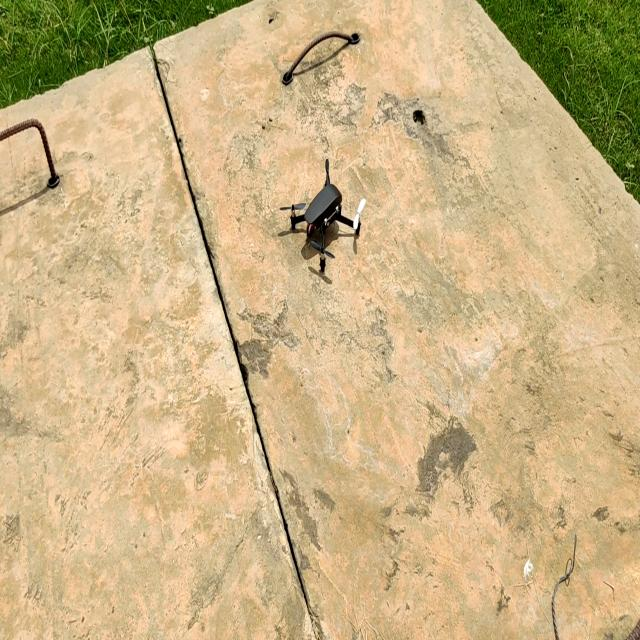drone: (273, 144, 368, 286)
